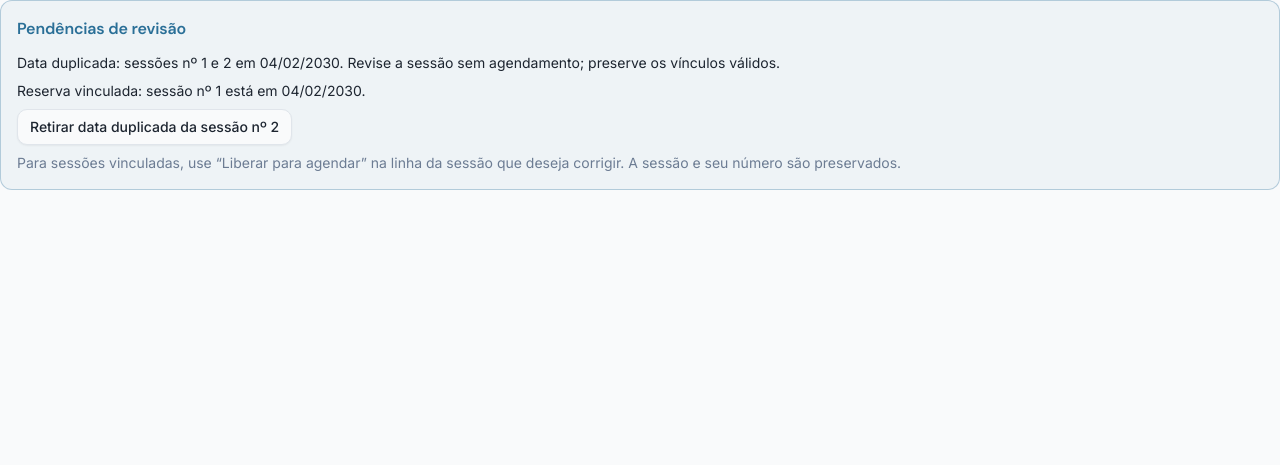
Test: regularização manual sem alterar o vínculo protegido › somente envia a sessão sem vínculo, depois de motivo e confirmação explícita
Later steps or results of the test are not shown.
expect the text "Reserva vinculada: sessão nº 1 está em 04/02/2030." is shown: met, box [17,82,365,99]
Step 1. Click the button "Retirar data duplicada da sessão nº 2" → [155, 127], box [17,109,292,145]
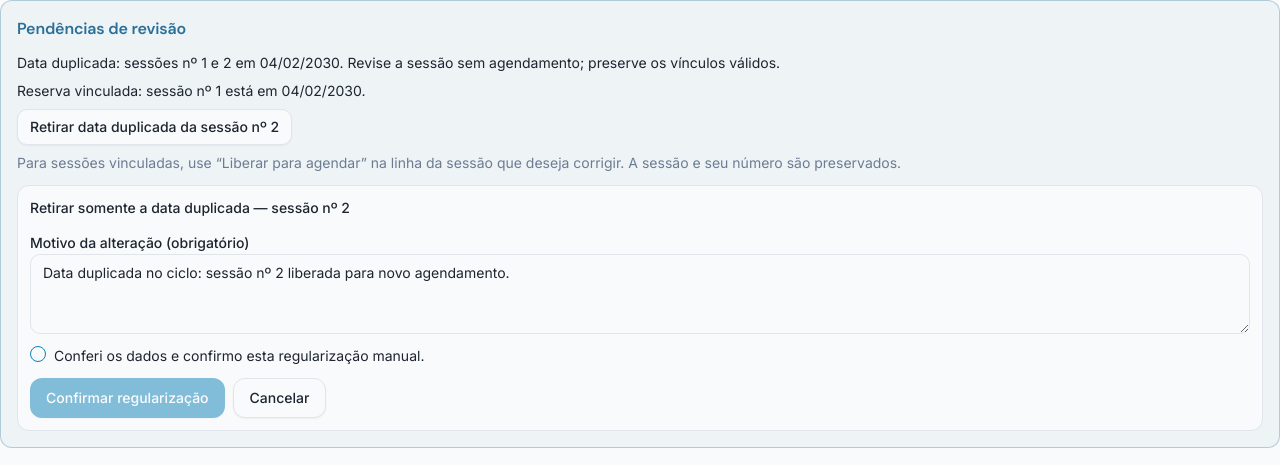
expect the button "Confirmar regularização" is disabled: met, box [30,378,224,418]
Step 2. Replace the text in the text box labelled "Motivo da alteração (obrigatório)" with "Vínculo da sessão 1 conferido" → [640, 294], box [30,254,1250,334]
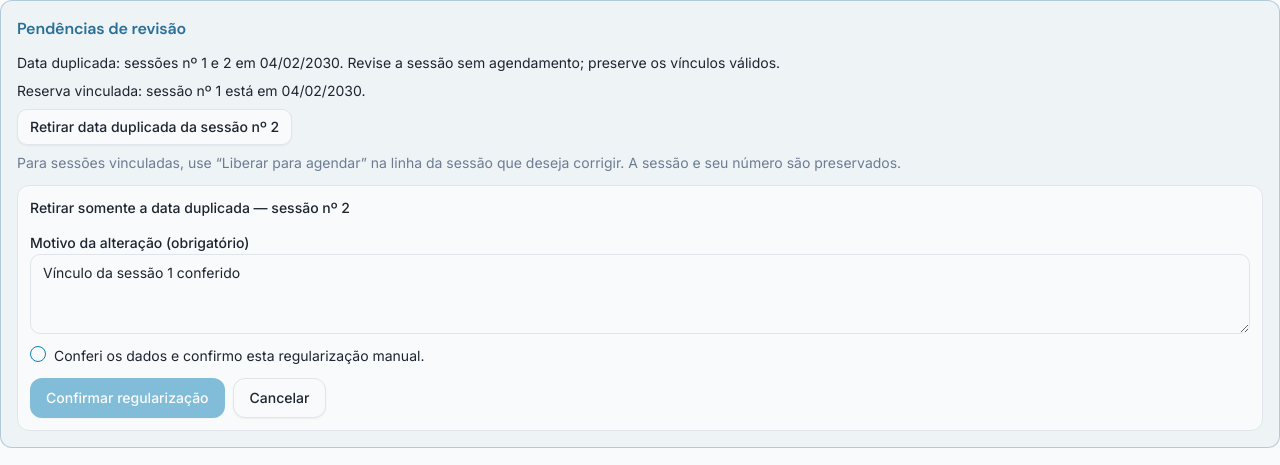
expect the button "Confirmar regularização" is disabled: met, box [30,378,224,418]
